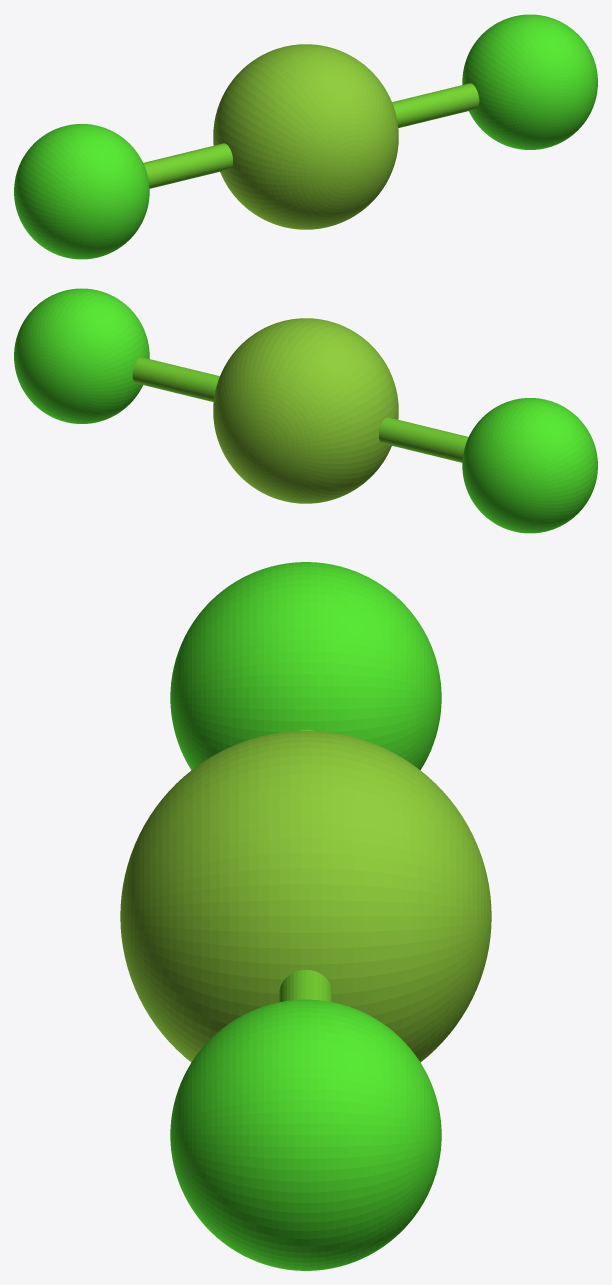
The model's file is magnesium_chloride.glb.
3 views of the same model, one above another, from view 1: azimuth 30°, elevation 25°; view 2: azimuth 150°, elevation 25°; view 3: azimuth 270°, elevation 25° (orthographic). The views are drawn at different scales.
Visible parts, largest first — view 1: Magnesium_Mg, Chlorine_Cl_Left, Chlorine_Cl_Right, Mg-Cl_Bond_Left, Mg-Cl_Bond_Right; view 2: Magnesium_Mg, Chlorine_Cl_Left, Chlorine_Cl_Right, Mg-Cl_Bond_Left, Mg-Cl_Bond_Right; view 3: Magnesium_Mg, Chlorine_Cl_Right, Chlorine_Cl_Left, Mg-Cl_Bond_Right.
Part boxes in pixels (bbox=[...]): Magnesium_Mg: bbox=[213, 44, 398, 229]; Chlorine_Cl_Left: bbox=[14, 124, 149, 259]; Chlorine_Cl_Right: bbox=[462, 14, 597, 149]; Mg-Cl_Bond_Left: bbox=[143, 143, 232, 188]; Mg-Cl_Bond_Right: bbox=[392, 83, 479, 127]; Magnesium_Mg: bbox=[213, 318, 398, 503]; Chlorine_Cl_Left: bbox=[462, 398, 597, 533]; Chlorine_Cl_Right: bbox=[14, 288, 149, 423]; Mg-Cl_Bond_Left: bbox=[379, 417, 468, 462]; Mg-Cl_Bond_Right: bbox=[132, 357, 219, 401]; Magnesium_Mg: bbox=[120, 731, 491, 1062]; Chlorine_Cl_Right: bbox=[170, 999, 441, 1270]; Chlorine_Cl_Left: bbox=[170, 562, 441, 769]; Mg-Cl_Bond_Right: bbox=[279, 969, 332, 1002].
Size of the model in its own units: 3.66 by 1.04 by 1.04.
